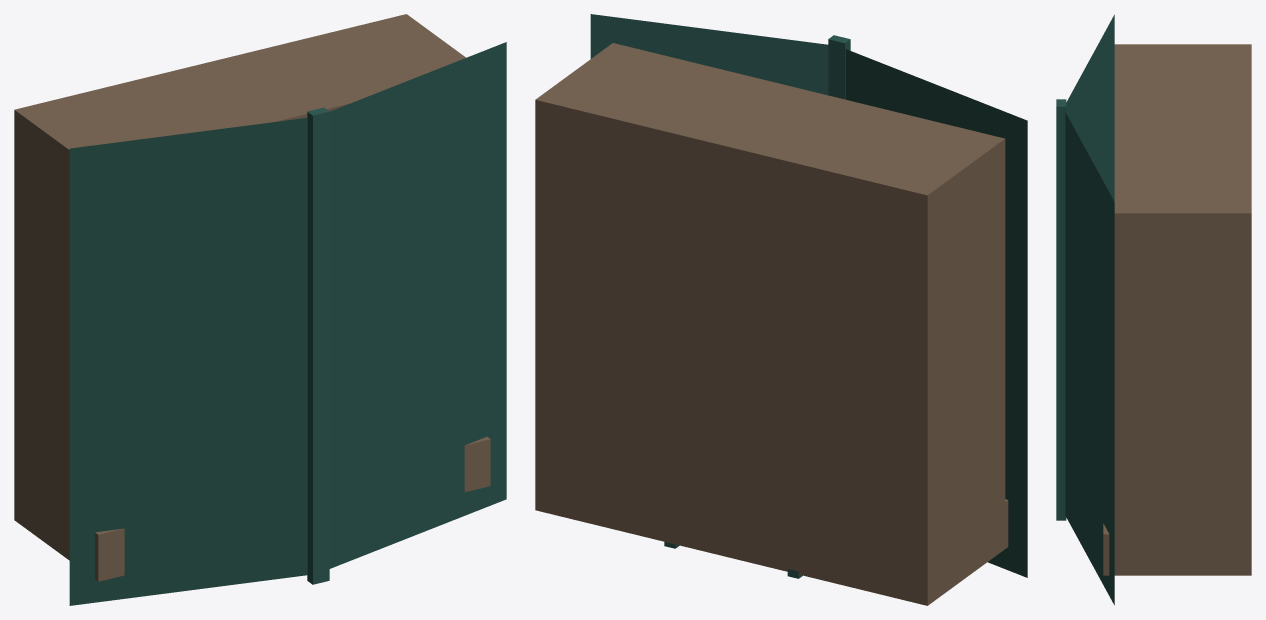
The model's file is SM_Temple_Cella.obj.
3 views of the same model, side by side, from view 1: azimuth 30°, elevation 25°; view 2: azimuth 150°, elevation 25°; view 3: azimuth 270°, elevation 25° (orthographic). The views are drawn at different scales.
Parts seen in each view (by area): view 1: PatinaBronze, Mudbrick; view 2: Mudbrick, PatinaBronze; view 3: Mudbrick, PatinaBronze.
Boxes of the visible parts, x1,y1,x2,y2 form: PatinaBronze: (69, 42, 506, 605); Mudbrick: (14, 14, 490, 581); Mudbrick: (535, 43, 1008, 605); PatinaBronze: (590, 14, 1027, 578); Mudbrick: (1103, 44, 1251, 575); PatinaBronze: (1056, 14, 1114, 605).
Size of the model in its own units: 1560 by 1600 by 685.
